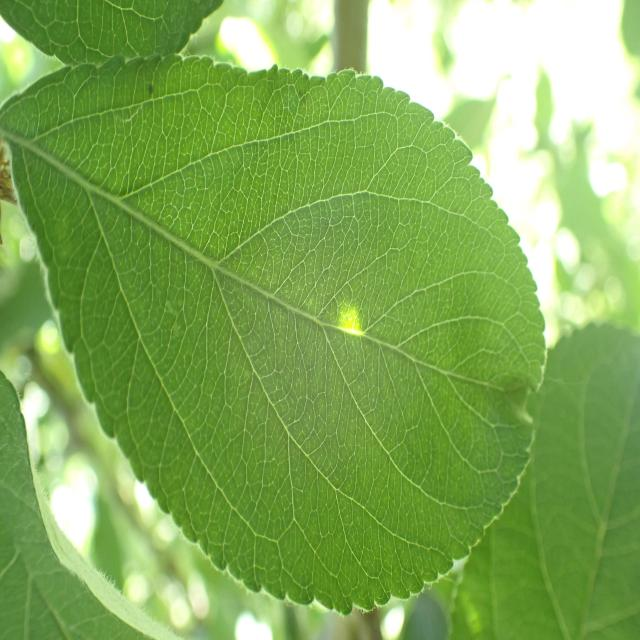healthy: (1, 53, 548, 616), (447, 320, 640, 639), (0, 371, 164, 639), (0, 0, 226, 66)
